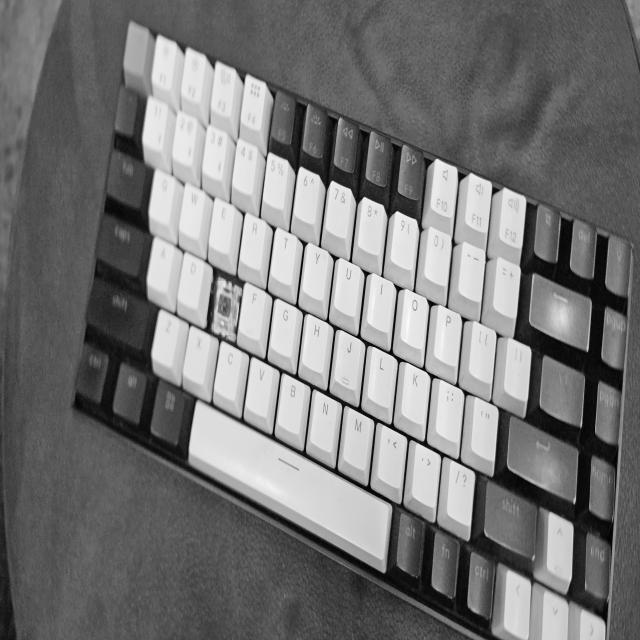C: (214, 281, 232, 335)
